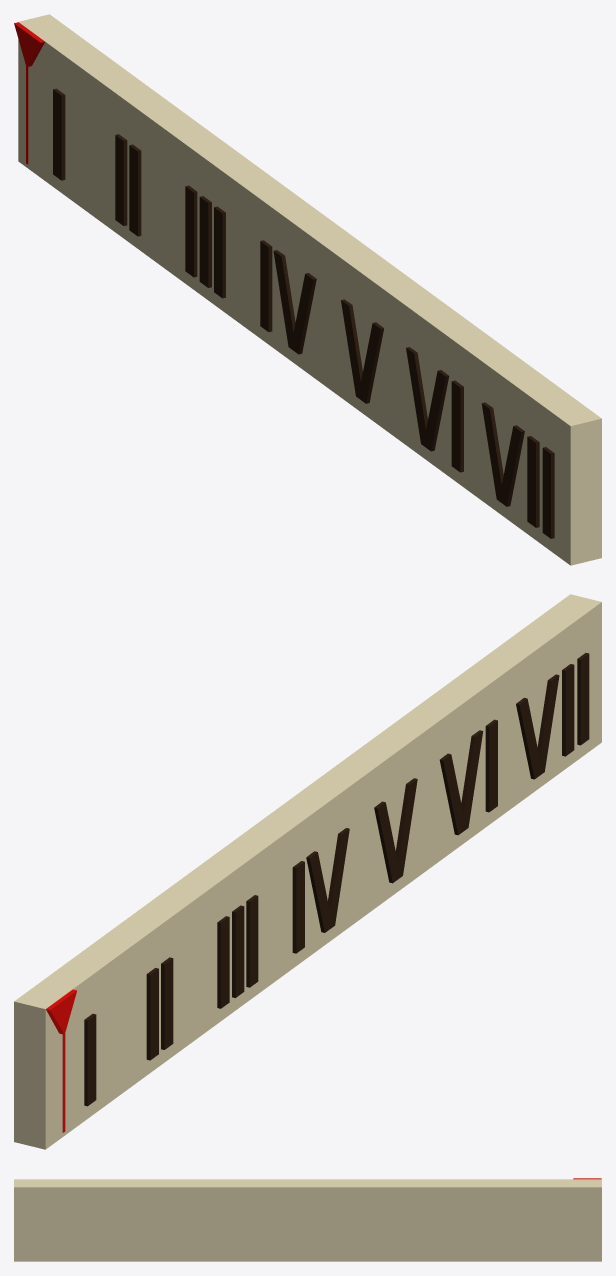
Rendered from gosterge.fbx.
3 renders of one model, top to bottom at view 1: azimuth 30°, elevation 25°; view 2: azimuth 150°, elevation 25°; view 3: azimuth 270°, elevation 25°, orthographic. The views are drawn at different scales.
Parts seen in each view (by area): view 1: cetvel, gosterge; view 2: cetvel, gosterge; view 3: cetvel.
Part boxes in pixels (x1=…): cetvel: x1=18, y1=14, x2=601, y2=565; gosterge: x1=14, y1=22, x2=44, y2=164; cetvel: x1=14, y1=594, x2=601, y2=1149; gosterge: x1=46, y1=989, x2=76, y2=1132; cetvel: x1=14, y1=1179, x2=601, y2=1261.
Size of the model in its own units: 27.46 by 99.63 by 715.
